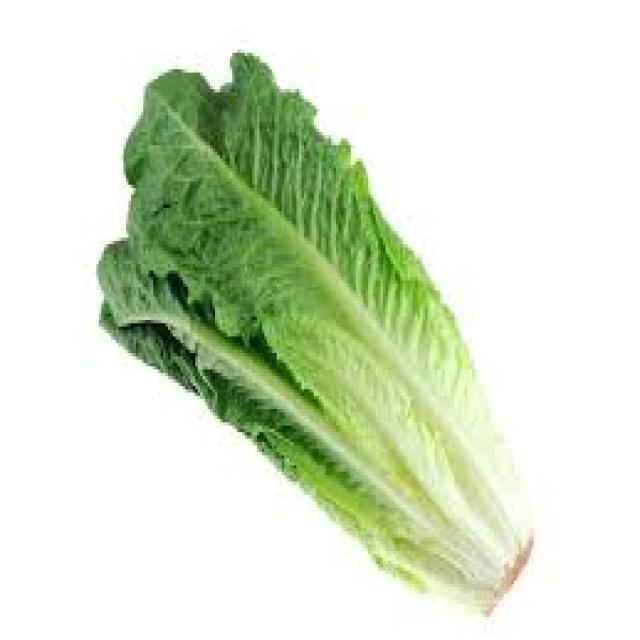Lettuce: (93, 50, 535, 620)
